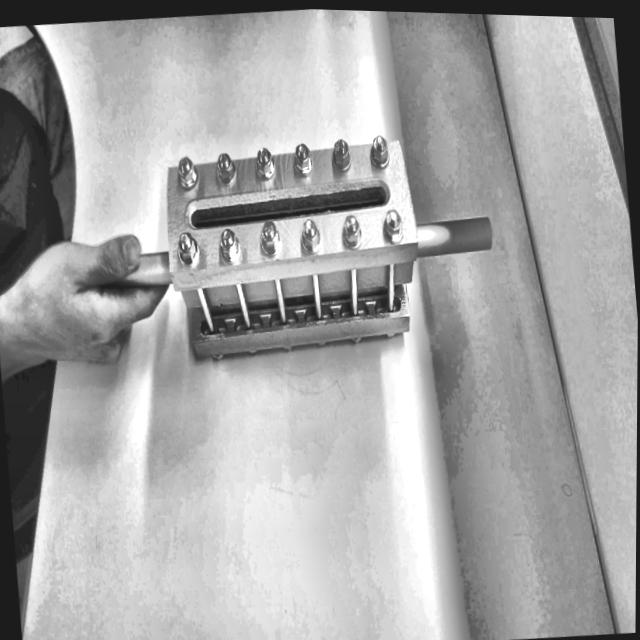ShuiWeiQi_12: (129, 46, 511, 402)
